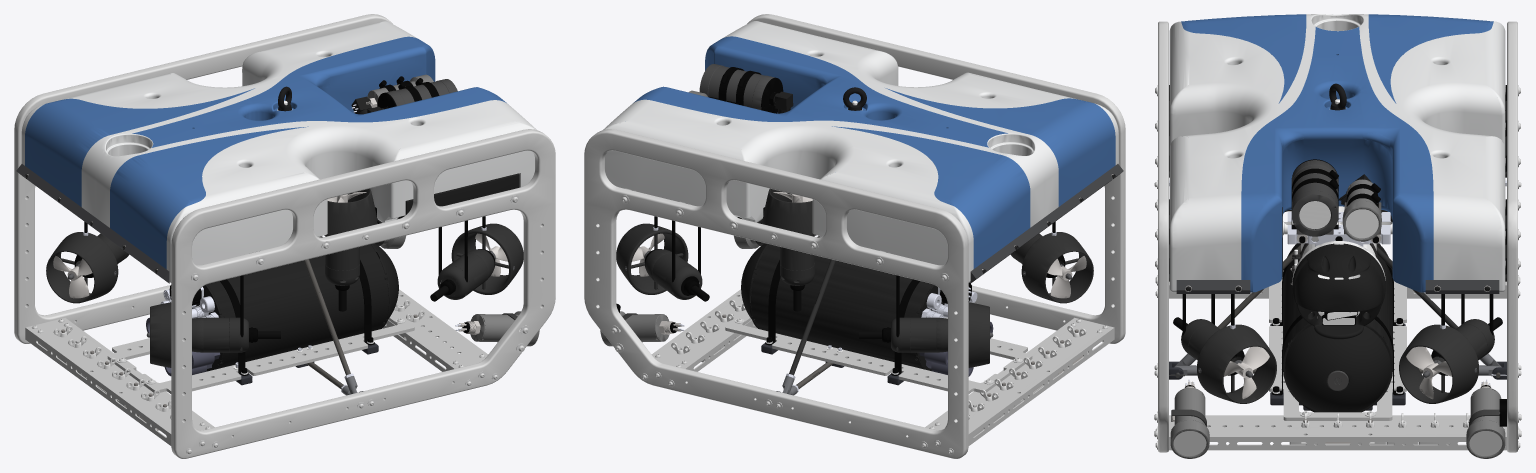
The model's file is r45_lowpoly.fbx.
The picture shows the model from 3 angles, left to right: view 1: azimuth 30°, elevation 25°; view 2: azimuth 150°, elevation 25°; view 3: azimuth 270°, elevation 25°; orthographic projection. The views are drawn at different scales.
Visible parts, largest first — view 1: R45_ROV_visual; view 2: R45_ROV_visual; view 3: R45_ROV_visual.
Part boxes in pixels (left/top/right/bottom): R45_ROV_visual: left=14, top=14, right=555, bottom=458; R45_ROV_visual: left=584, top=14, right=1125, bottom=458; R45_ROV_visual: left=1154, top=14, right=1521, bottom=458.
Bounding box in the file's own units: 68.12 × 50.01 × 44.82.
